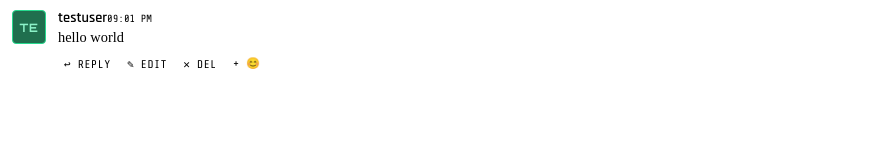
Test: MessageItem › cancels edit and restores original content
Click the button "✎ EDIT" at coordinates (147, 65), box [121,53,173,77]
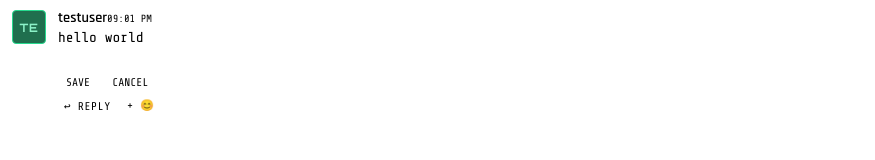
Replace the text in the text box showing "hello world" with "changed text" at coordinates (458, 48), box [58,27,858,70]
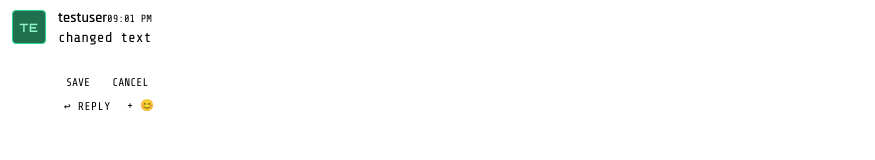
Click the button "CANCEL" at coordinates (130, 82), box [104,74,156,91]
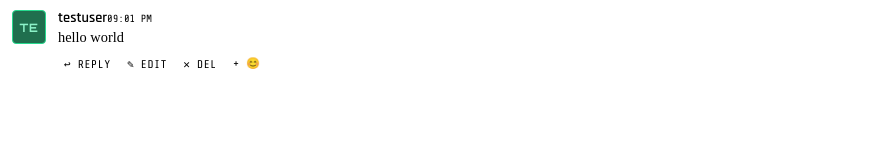
Expected: the text "hello world" is shown, [58,29,124,45]
